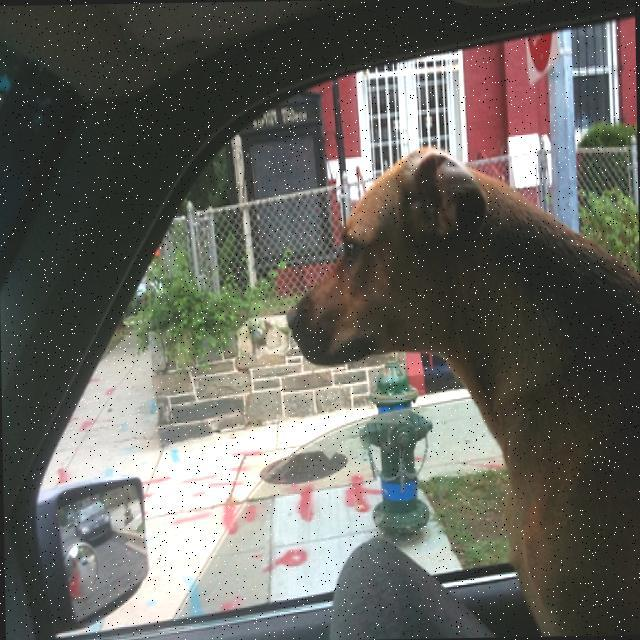fire_hydrant: (354, 354, 434, 542)
